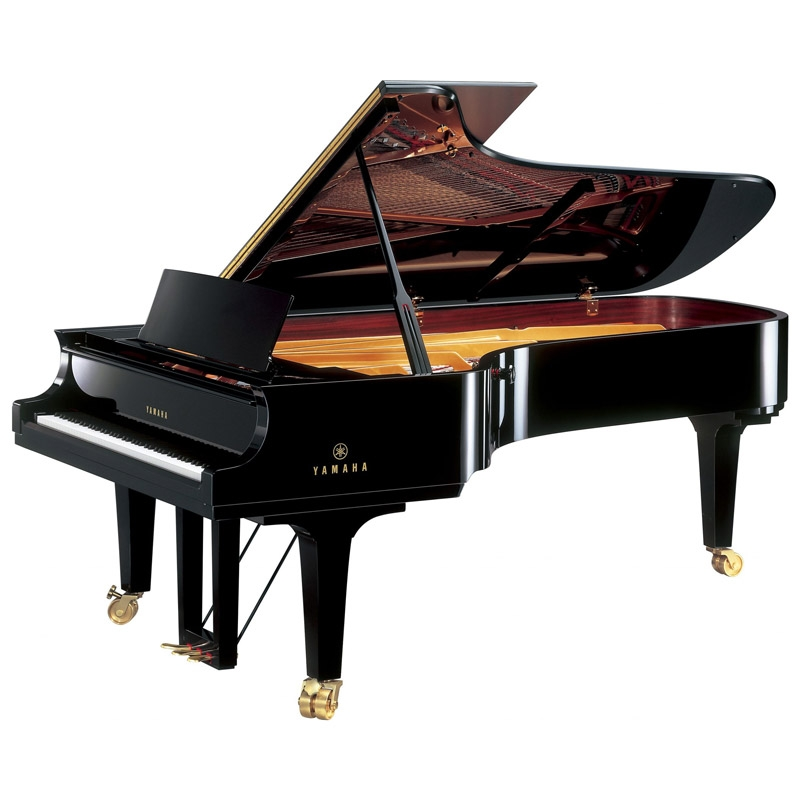GrandPiano: (5, 177, 795, 500)
